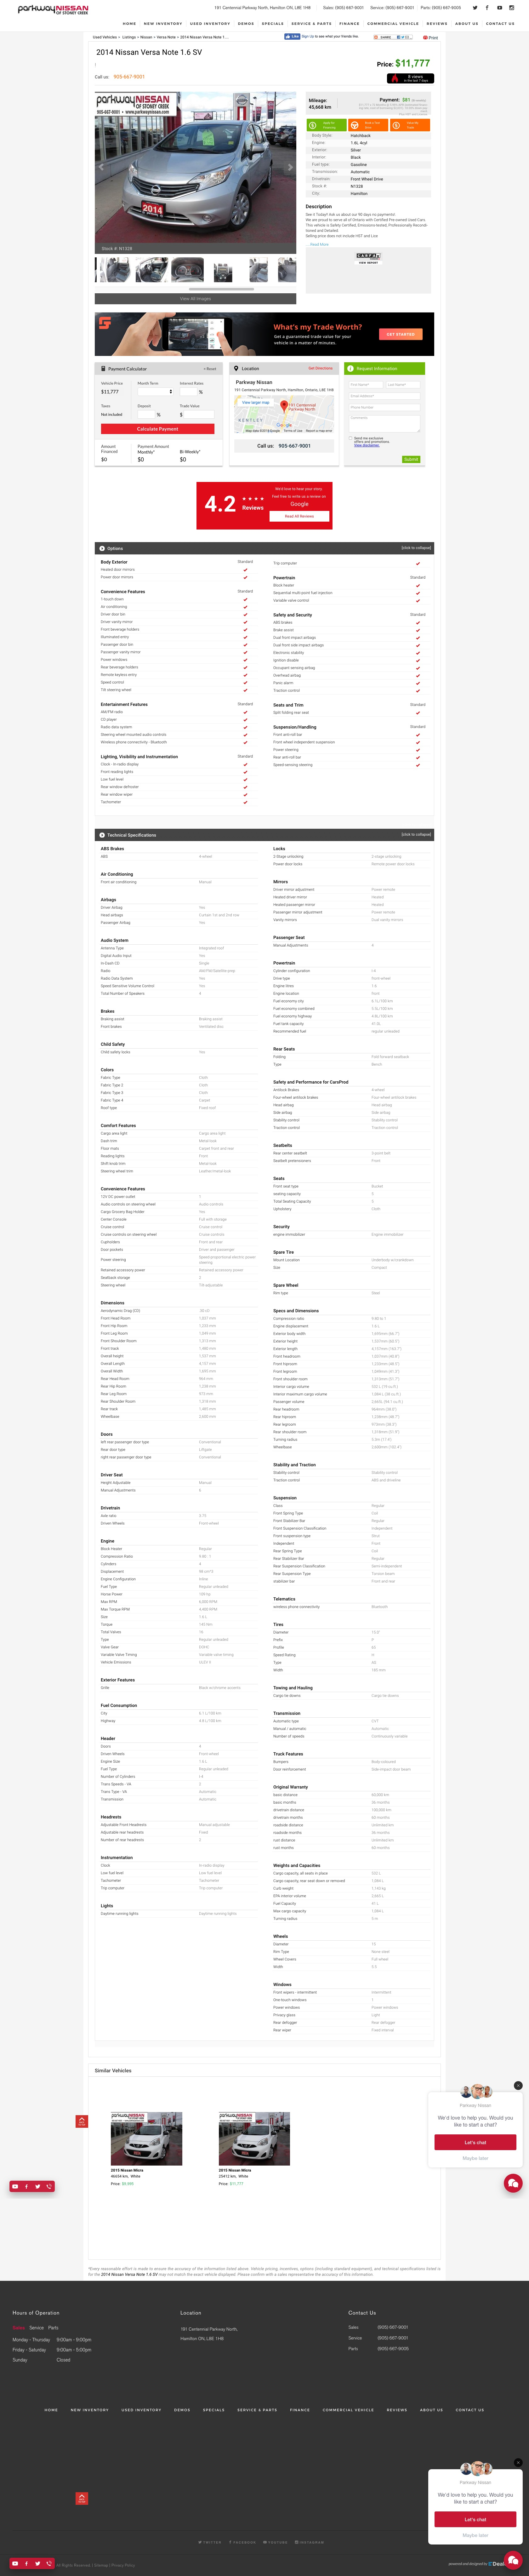car: (283, 159, 297, 176)
